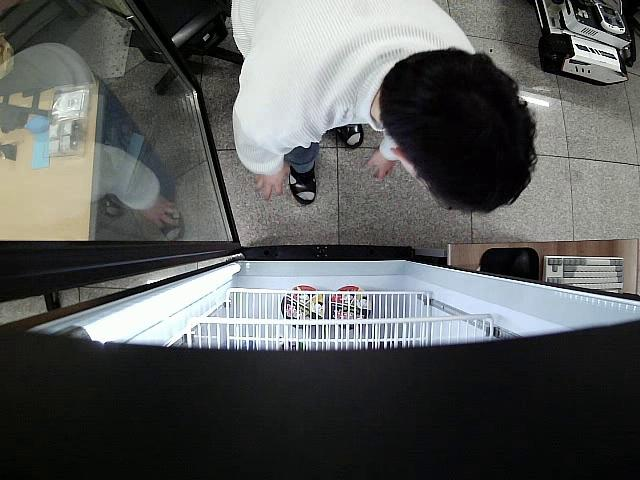00_hand: (253, 157, 290, 203)
